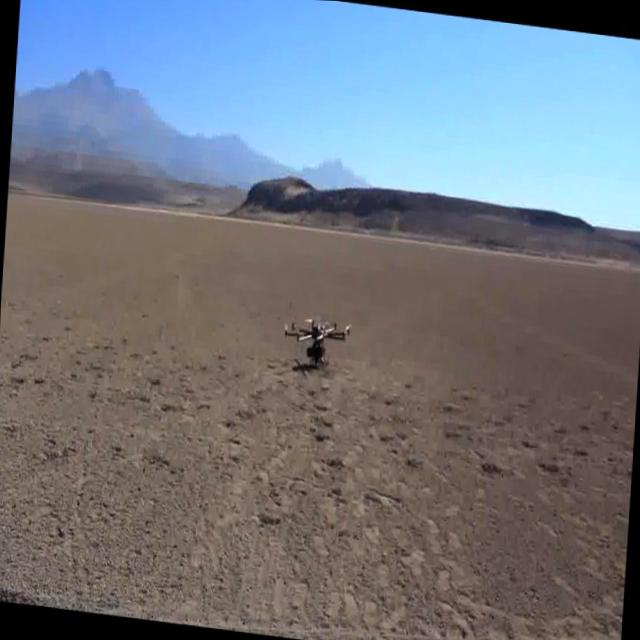drone: (278, 304, 353, 372)
